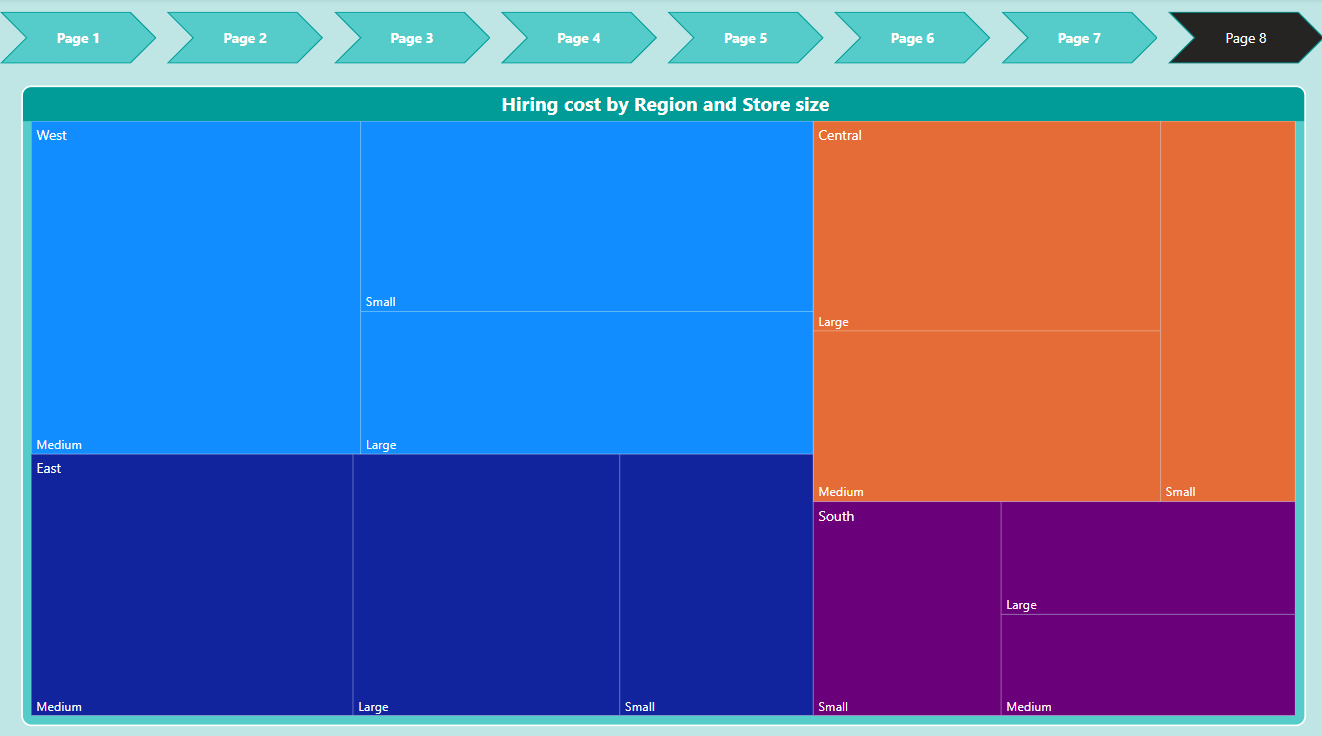

The page's visual inventory and layout, read from the dashboard file:
{"tool":"powerbi","page":{"name":"Page 8","canvas":[1280,720],"ordinal":7},"visuals":[{"type":"treemap","title":"Hiring cost by Region and Store size","fields":{"Group":["Store Data.region"],"Details":["Store Data.store_size"],"Values":["Sum(Hiring Data.hiring_cost)"]},"box":[20.8,84.4,1240,618.8],"z":0},{"type":"pageNavigator","box":[0,13.3,1280,50.7],"z":1000}]}

Visuals, with their boxes in screenshot pixels (x1, y1, x2, y2), scaled from the page's 1280x720 canvas onto the 1322x736 screenshot:
"Hiring cost by Region and Store size" treemap: crop(21, 86, 1302, 719)
pageNavigator: crop(0, 14, 1321, 65)
